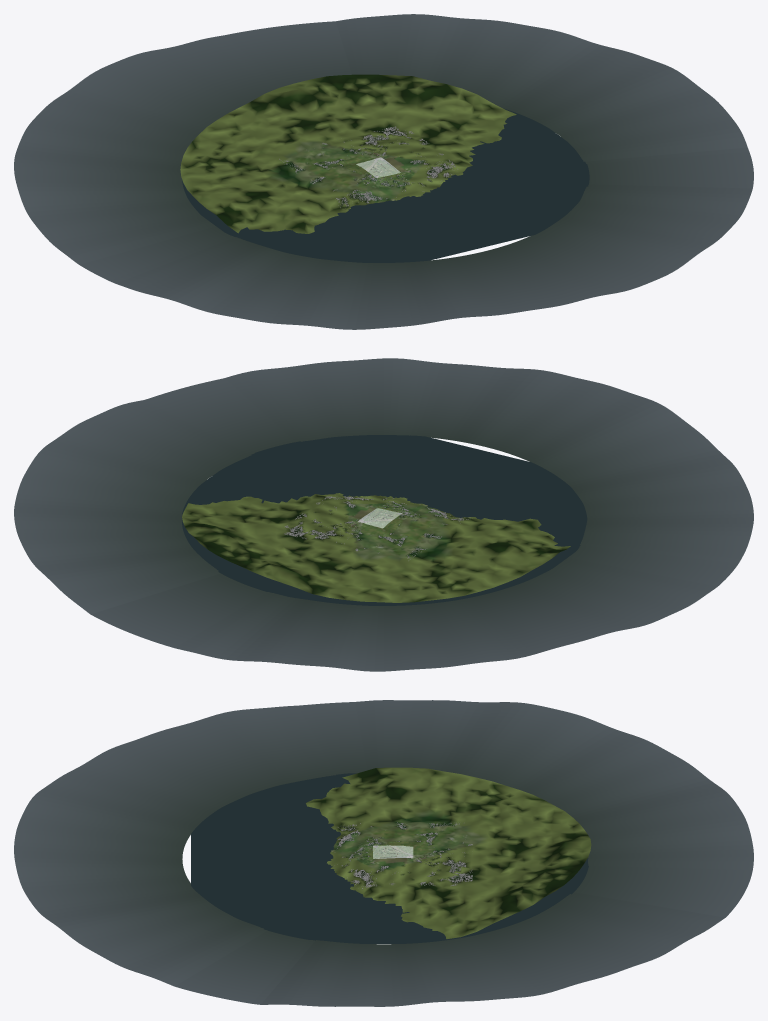
Rendered from byneset_south_09.gltf.
3 views of the same model, one above another, from view 1: azimuth 30°, elevation 25°; view 2: azimuth 150°, elevation 25°; view 3: azimuth 270°, elevation 25° (orthographic).
Visible parts, largest first — view 1: FAR_Horizon, SURF_Far, WATER_Sea, FAR_Trees; view 2: FAR_Horizon, SURF_Far, WATER_Sea, FAR_Trees; view 3: FAR_Horizon, SURF_Far, WATER_Sea, FAR_Trees.
Boxes of the visible parts, left/top/right/bottom form: FAR_Horizon: left=14, top=14, right=753, bottom=329; SURF_Far: left=180, top=74, right=516, bottom=233; WATER_Sea: left=182, top=108, right=589, bottom=262; FAR_Trees: left=279, top=126, right=458, bottom=207; FAR_Horizon: left=14, top=358, right=753, bottom=671; SURF_Far: left=182, top=493, right=570, bottom=602; WATER_Sea: left=182, top=435, right=587, bottom=605; FAR_Trees: left=284, top=496, right=470, bottom=560; FAR_Horizon: left=14, top=700, right=753, bottom=1006; SURF_Far: left=306, top=767, right=591, bottom=938; WATER_Sea: left=191, top=773, right=588, bottom=943; FAR_Trees: left=334, top=822, right=472, bottom=889.
Bounding box in the file's own units: 11200 × 288 × 11200.
